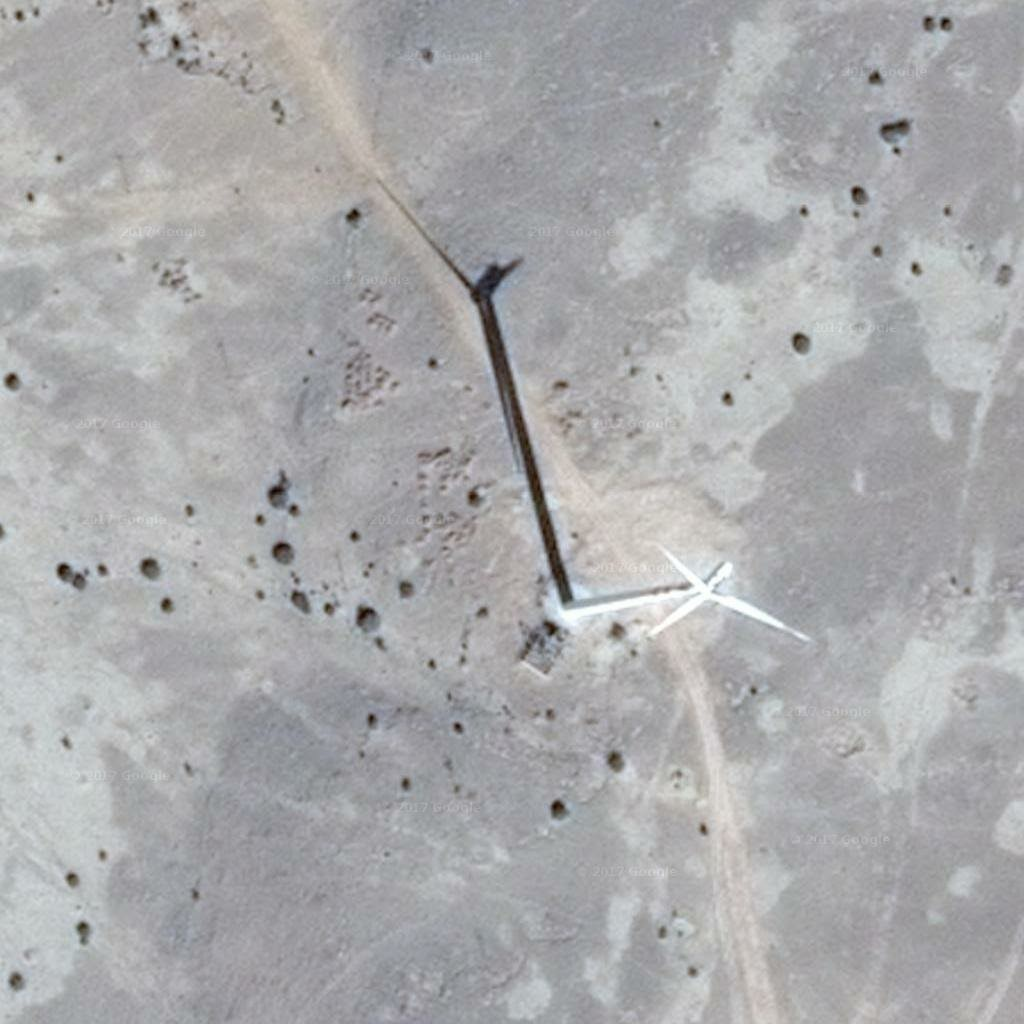Windmill: (373, 178, 599, 605)
